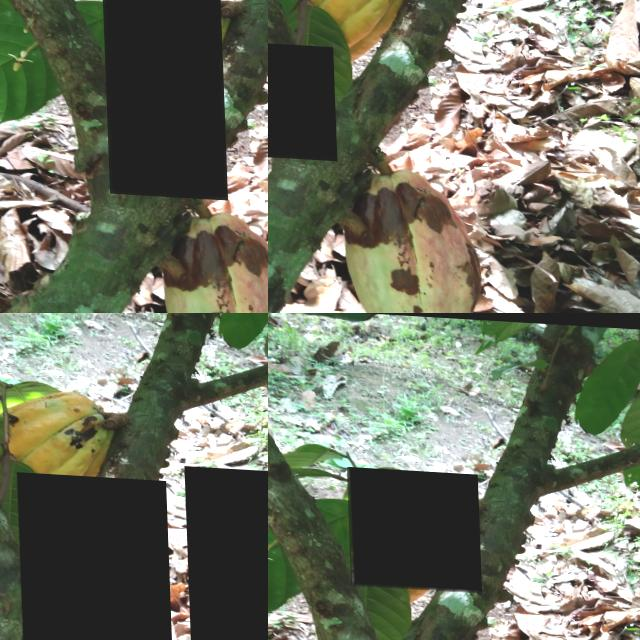Fitoftora: (101, 0, 224, 195), (346, 464, 479, 588), (268, 39, 333, 157)
Monilia: (15, 468, 171, 640), (182, 460, 268, 640)
